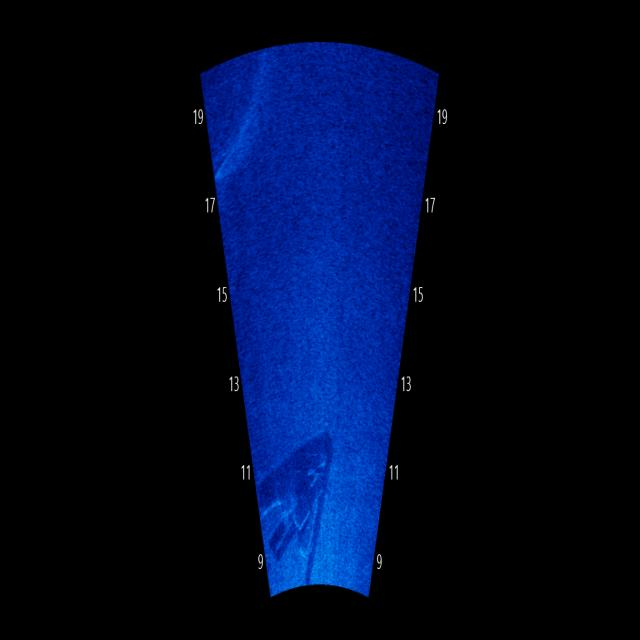triangle: (259, 386, 341, 577)
